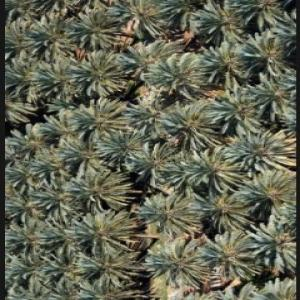palm tree: (3, 0, 298, 299)
